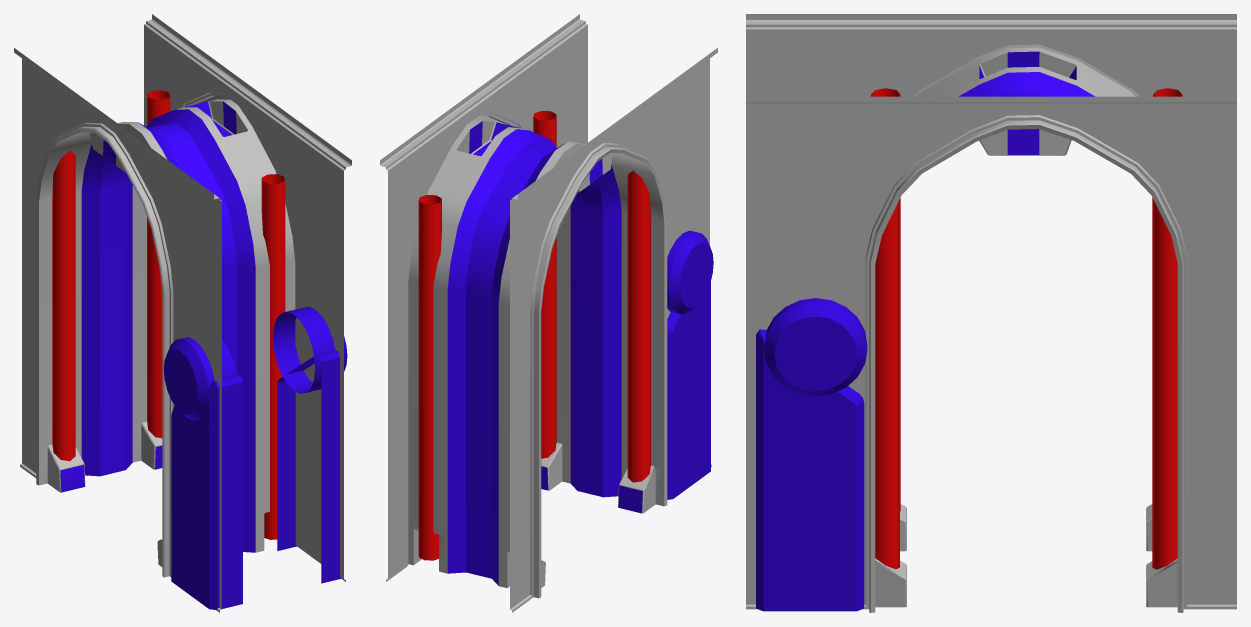
File: arch 2.fbx
The picture shows the model from 3 angles, left to right: view 1: azimuth 30°, elevation 25°; view 2: azimuth 150°, elevation 25°; view 3: azimuth 270°, elevation 25°; orthographic projection. The views are drawn at different scales.
Visible parts, largest first — view 1: arch_2; view 2: arch_2; view 3: arch_2.
Part boxes in pixels (bbox=[...]): arch_2: bbox=[14, 14, 351, 612]; arch_2: bbox=[380, 14, 717, 612]; arch_2: bbox=[746, 14, 1236, 612].
Bounding box in the file's own units: 3.05 × 8.12 × 7.
